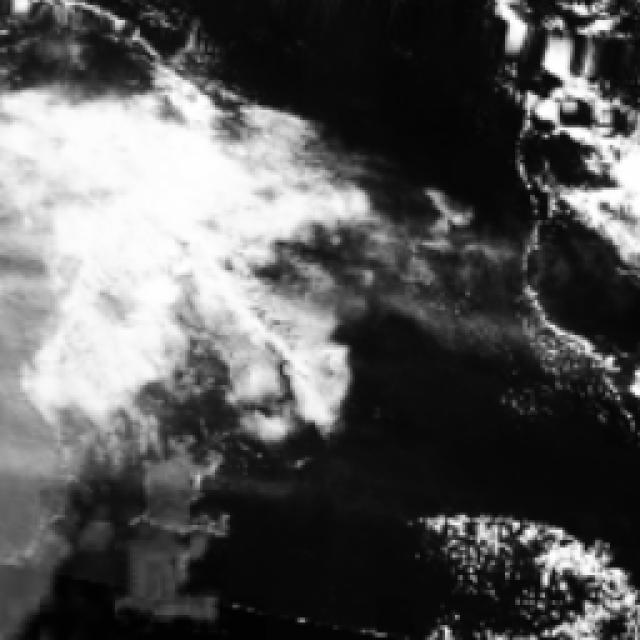CB: (64, 128, 214, 289)
